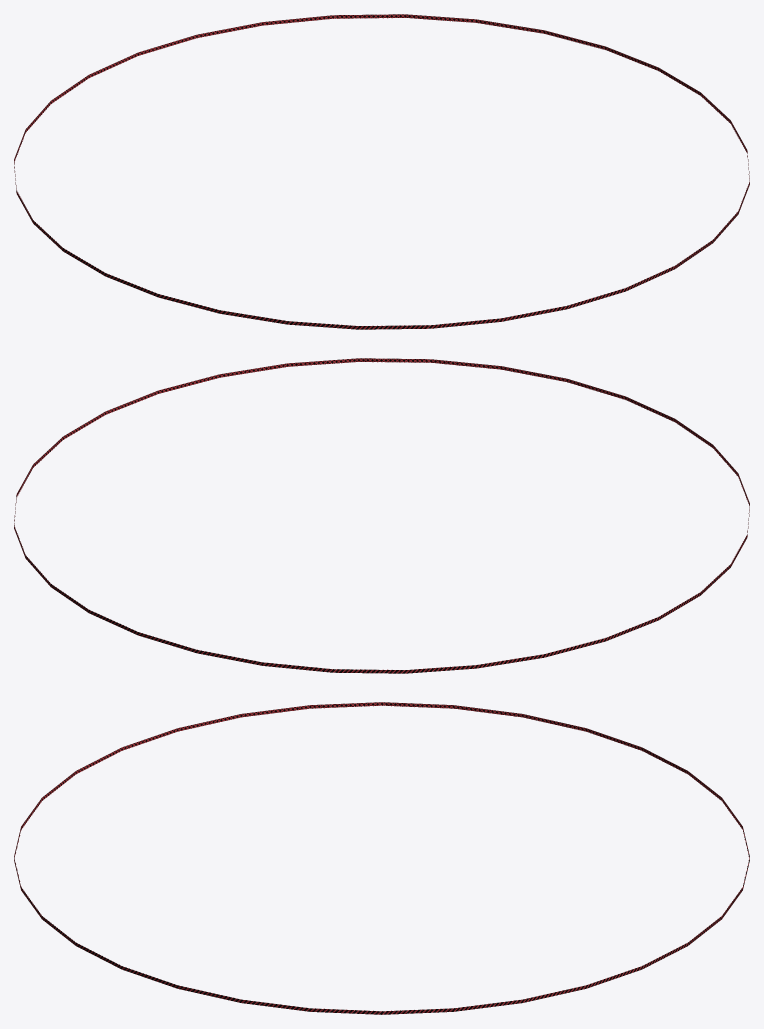
The model's file is AreaOut.obj.
The picture shows the model from 3 angles, top to bottom: view 1: azimuth 30°, elevation 25°; view 2: azimuth 150°, elevation 25°; view 3: azimuth 270°, elevation 25°; orthographic projection.
Visible parts, largest first — view 1: 平面.001; view 2: 平面.001; view 3: 平面.001.
Boxes of the visible parts, bbox=[...] form: 平面.001: bbox=[14, 14, 749, 329]; 平面.001: bbox=[14, 358, 749, 673]; 平面.001: bbox=[14, 702, 749, 1014].
Bounding box in the file's own units: 376 × 2 × 378.
2 materials, 2 textured.
